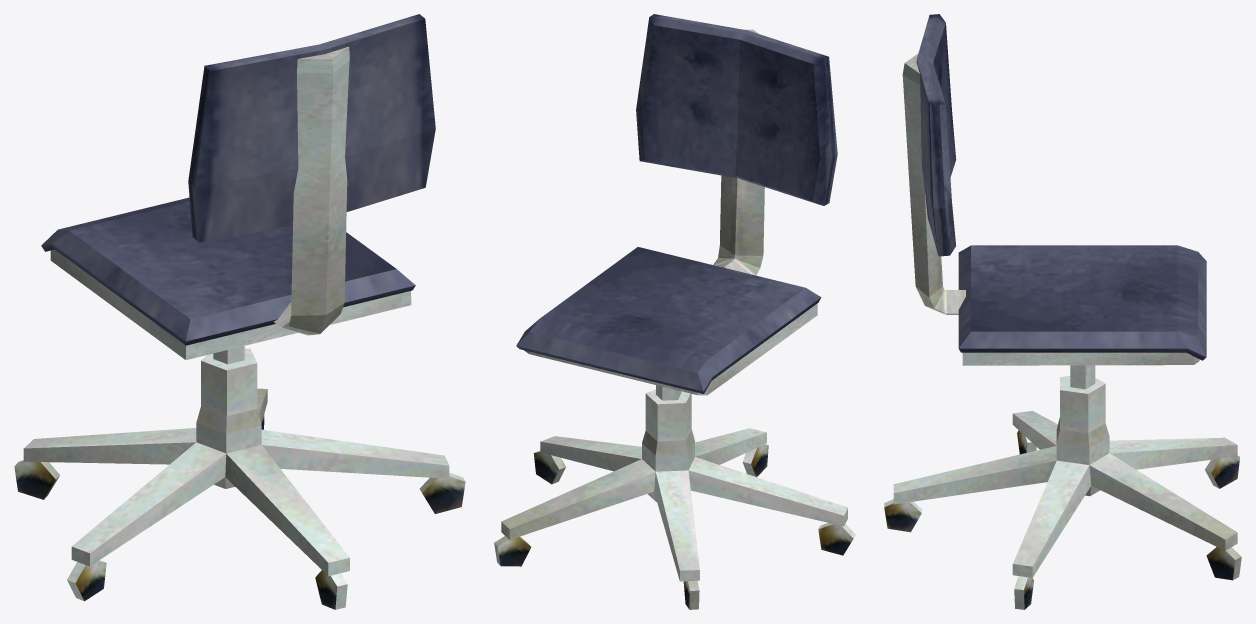
The model's file is office_chair_blue_alt.obj.
The picture shows the model from 3 angles, left to right: view 1: azimuth 30°, elevation 25°; view 2: azimuth 150°, elevation 25°; view 3: azimuth 270°, elevation 25°; orthographic projection. The views are drawn at different scales.
Visible parts, largest first — view 1: office_chair_blue_alt; view 2: office_chair_blue_alt; view 3: office_chair_blue_alt.
Part boxes in pixels (<box>): office_chair_blue_alt: <box>14,14,465,609</box>; office_chair_blue_alt: <box>494,14,855,609</box>; office_chair_blue_alt: <box>884,14,1241,609</box>.
Bounding box in the file's own units: 0.8196 × 1.1 × 0.7513.
